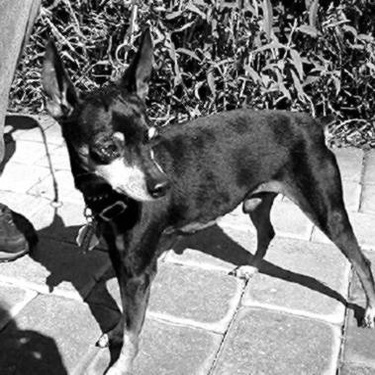dog: (34, 23, 373, 374)
